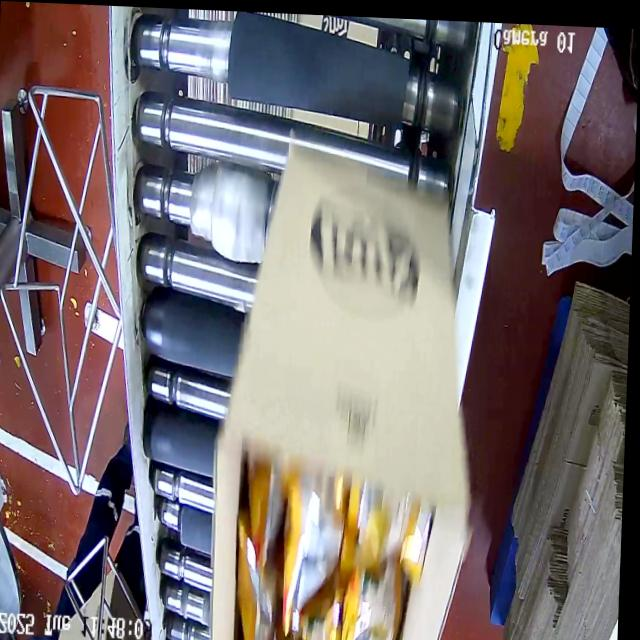FRENCH_CHEESE: (226, 468, 428, 640)
